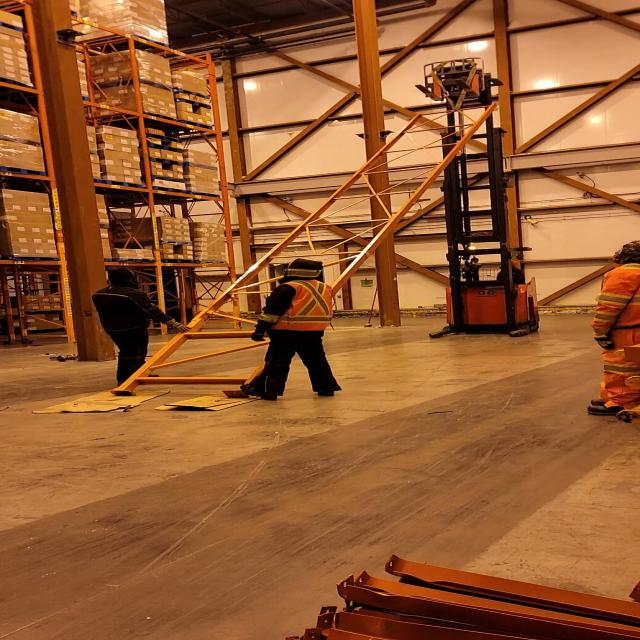forklift: (428, 178, 546, 340)
human: (236, 258, 342, 403), (85, 268, 192, 391), (579, 238, 640, 420), (476, 257, 532, 290)
objectofinterest: (104, 98, 509, 398), (26, 388, 176, 415), (154, 388, 276, 412)
